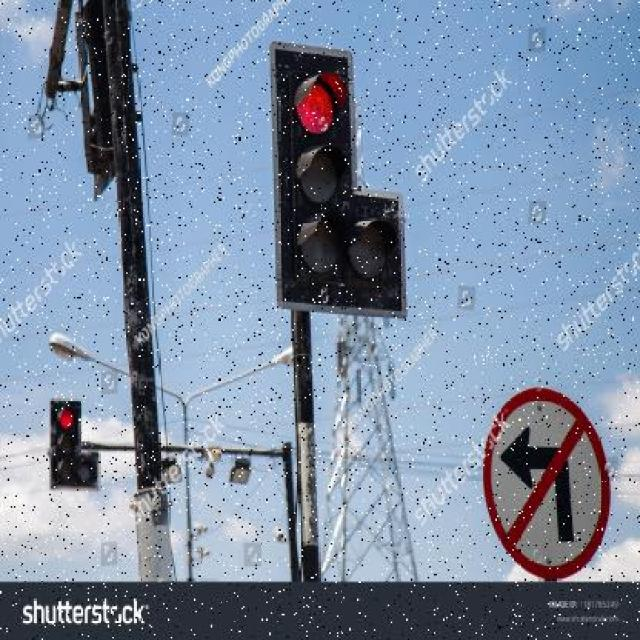red-light: (270, 38, 364, 303), (46, 396, 90, 487)
